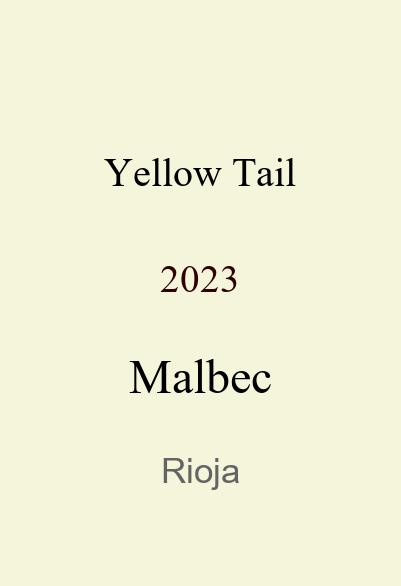brand: (104, 150, 296, 178)
region: (161, 451, 240, 483)
variety: (129, 350, 272, 384)
vintage: (160, 257, 240, 283)
